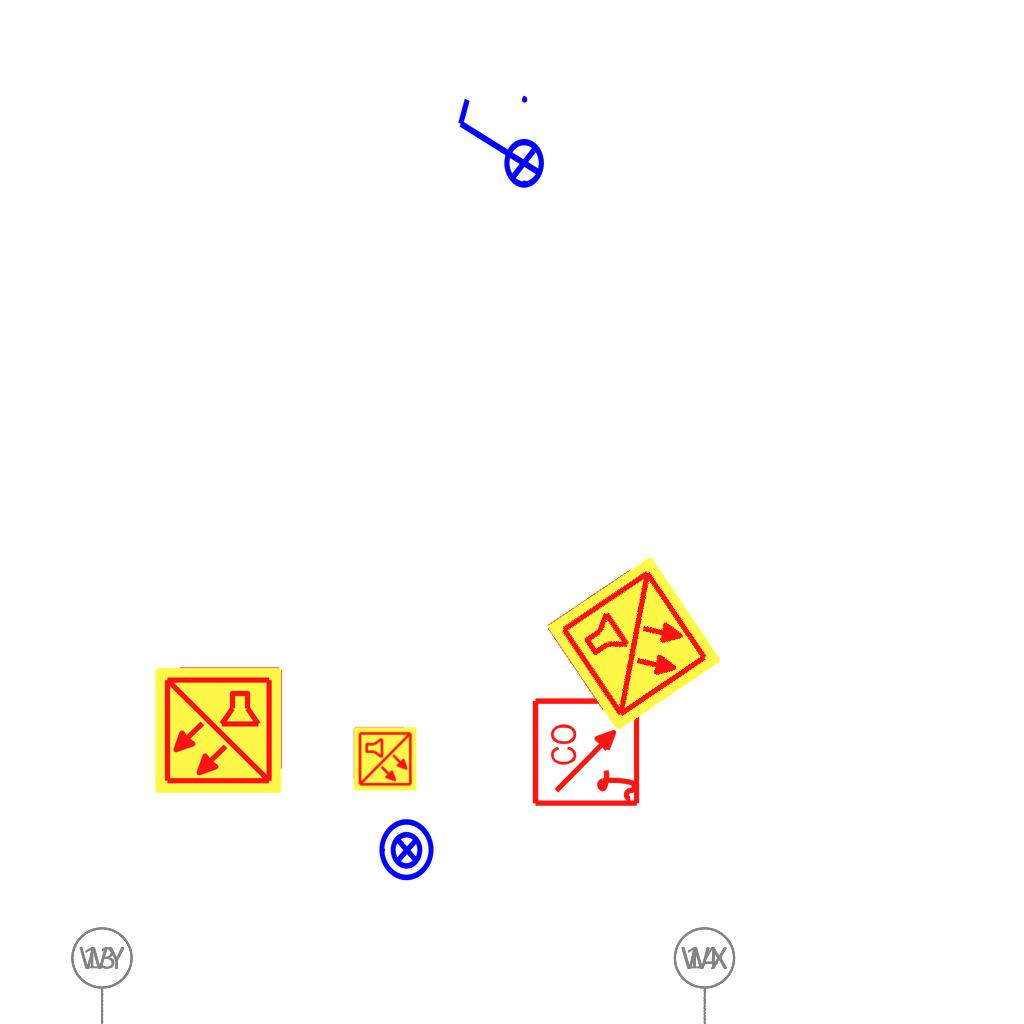Ausschalter_beleuchtet: (450, 90, 546, 202)
OKW_Multisensormelder_(Kombination_optischer_Rauch-Kahlenmonoxid_Waerme-Melder): (542, 552, 726, 736), (152, 664, 284, 796), (352, 726, 418, 792)
ROA_Rauchmelder_optisch_mit_Signalgeber_(Sockelsirene): (531, 695, 644, 808)
Taster_beleuchtet: (343, 716, 431, 804), (374, 817, 440, 883)
